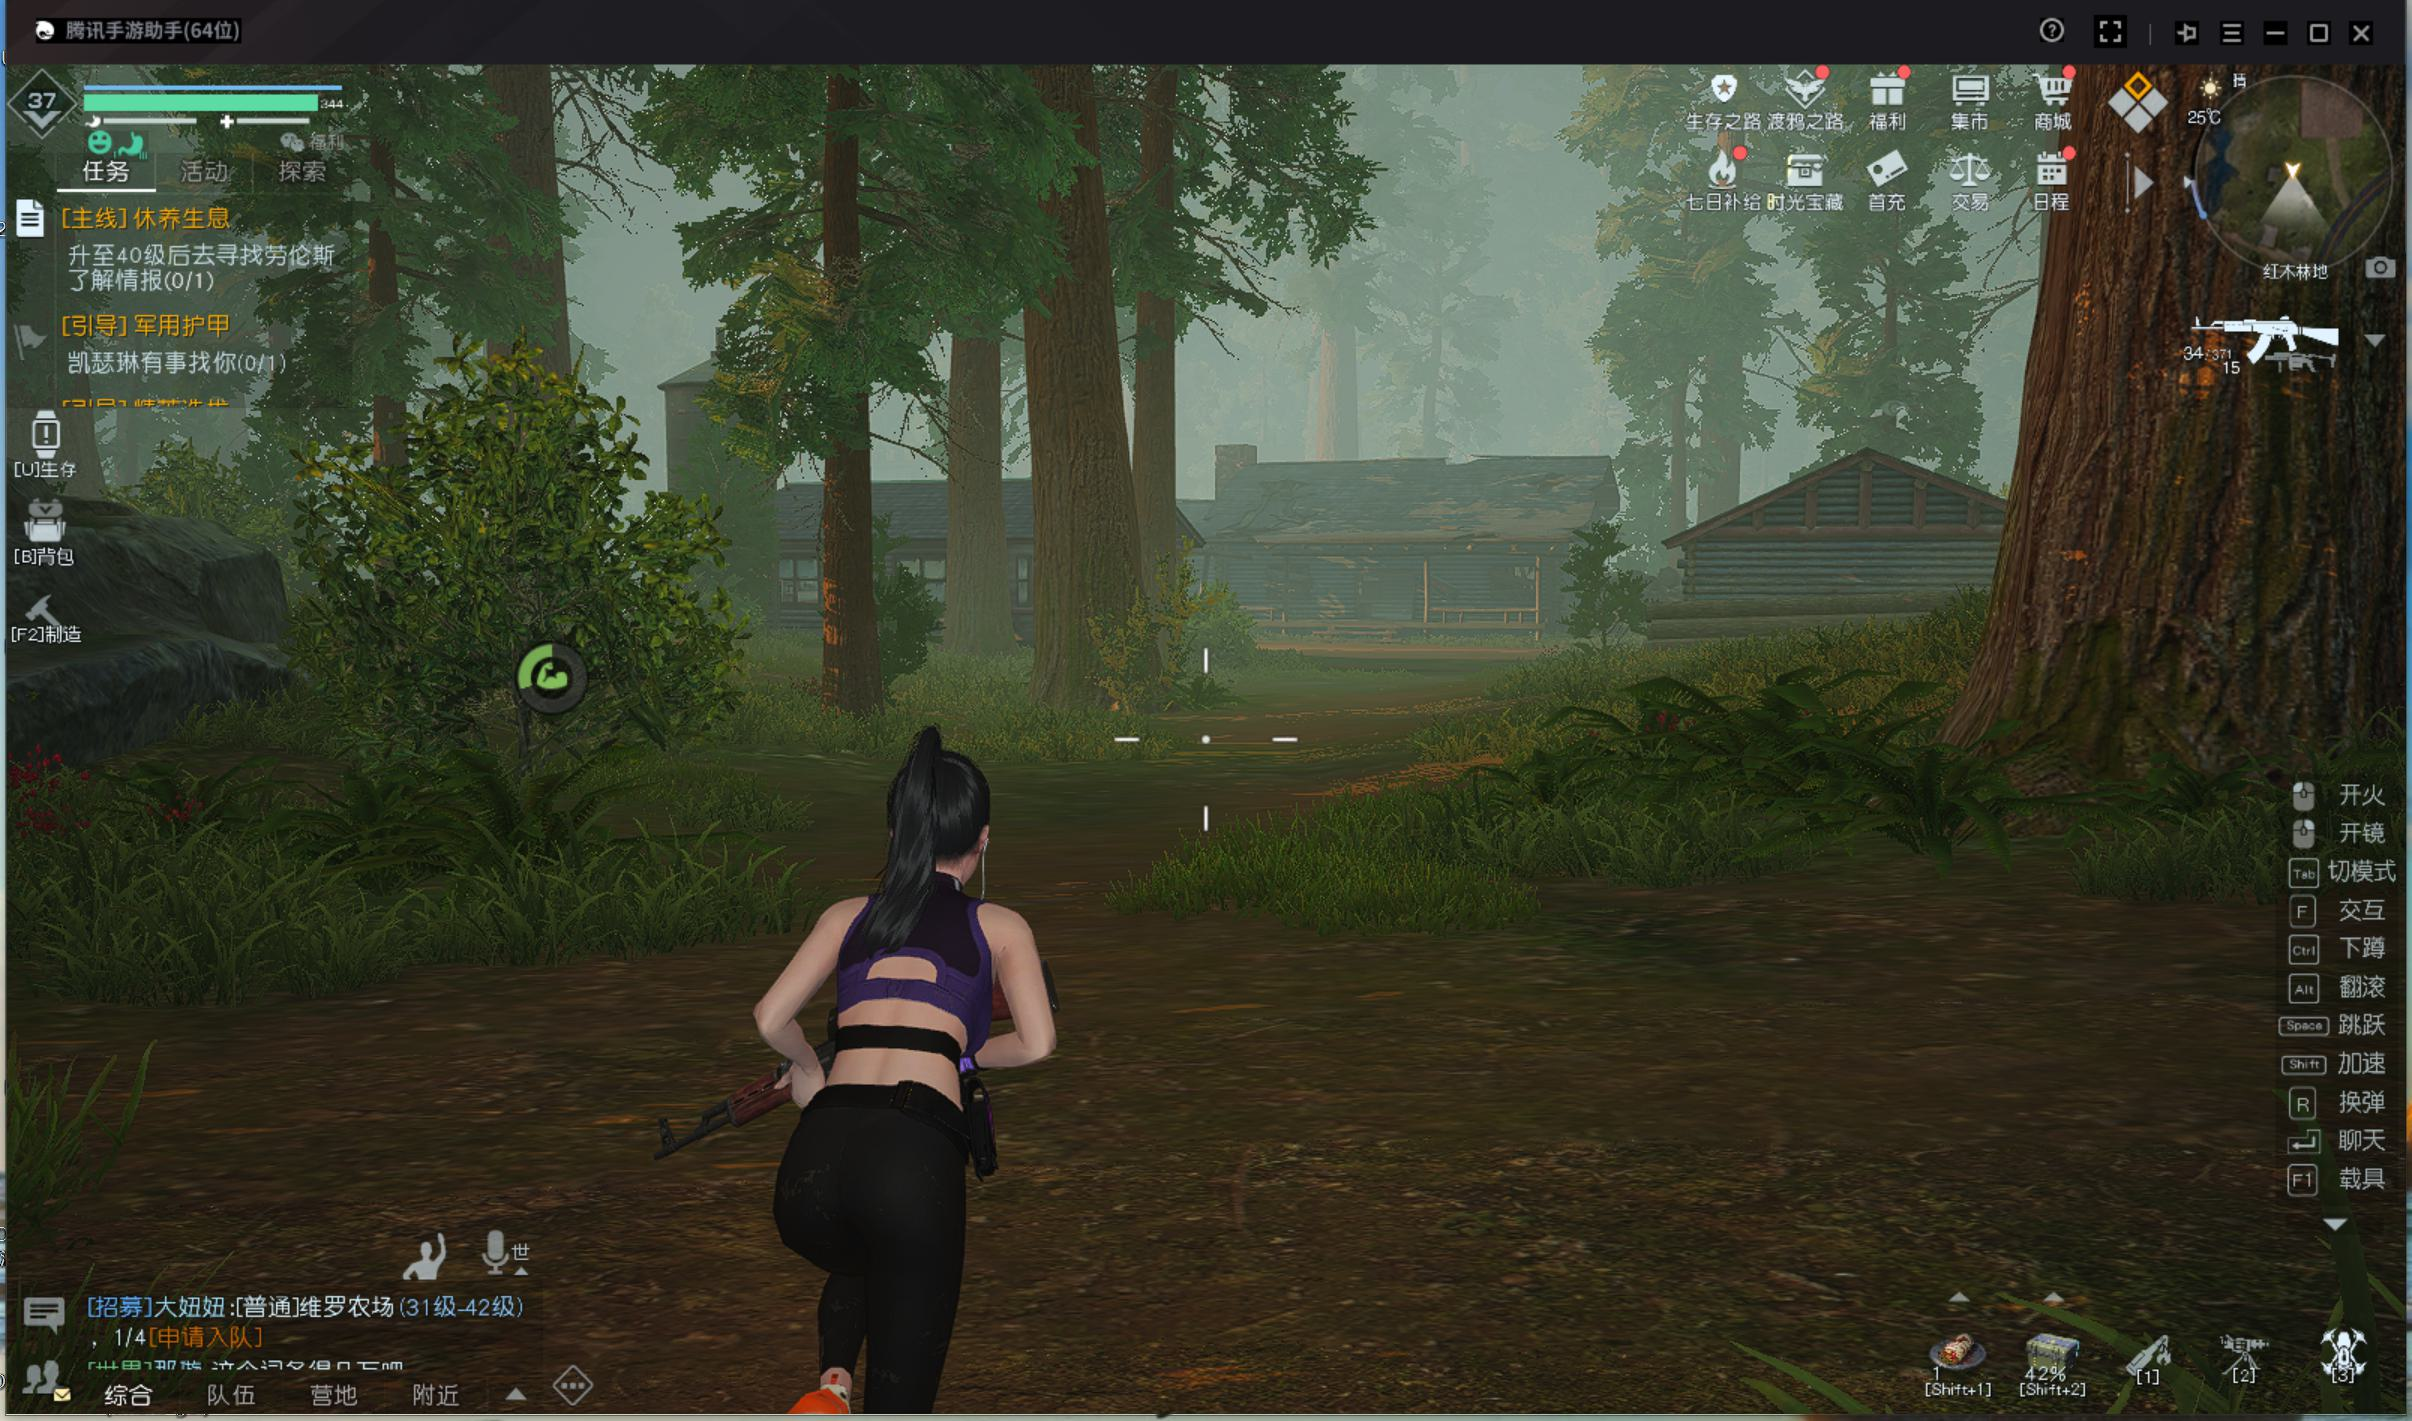tree: (1017, 303, 1159, 753), (788, 215, 866, 716), (937, 301, 1010, 668)
